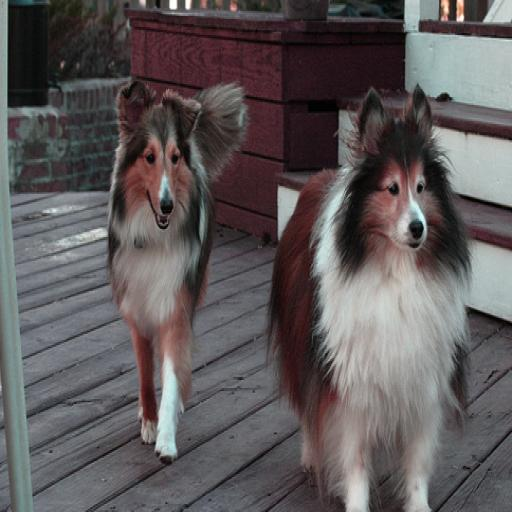dog_face: (353, 83, 440, 260), (117, 85, 199, 236)
